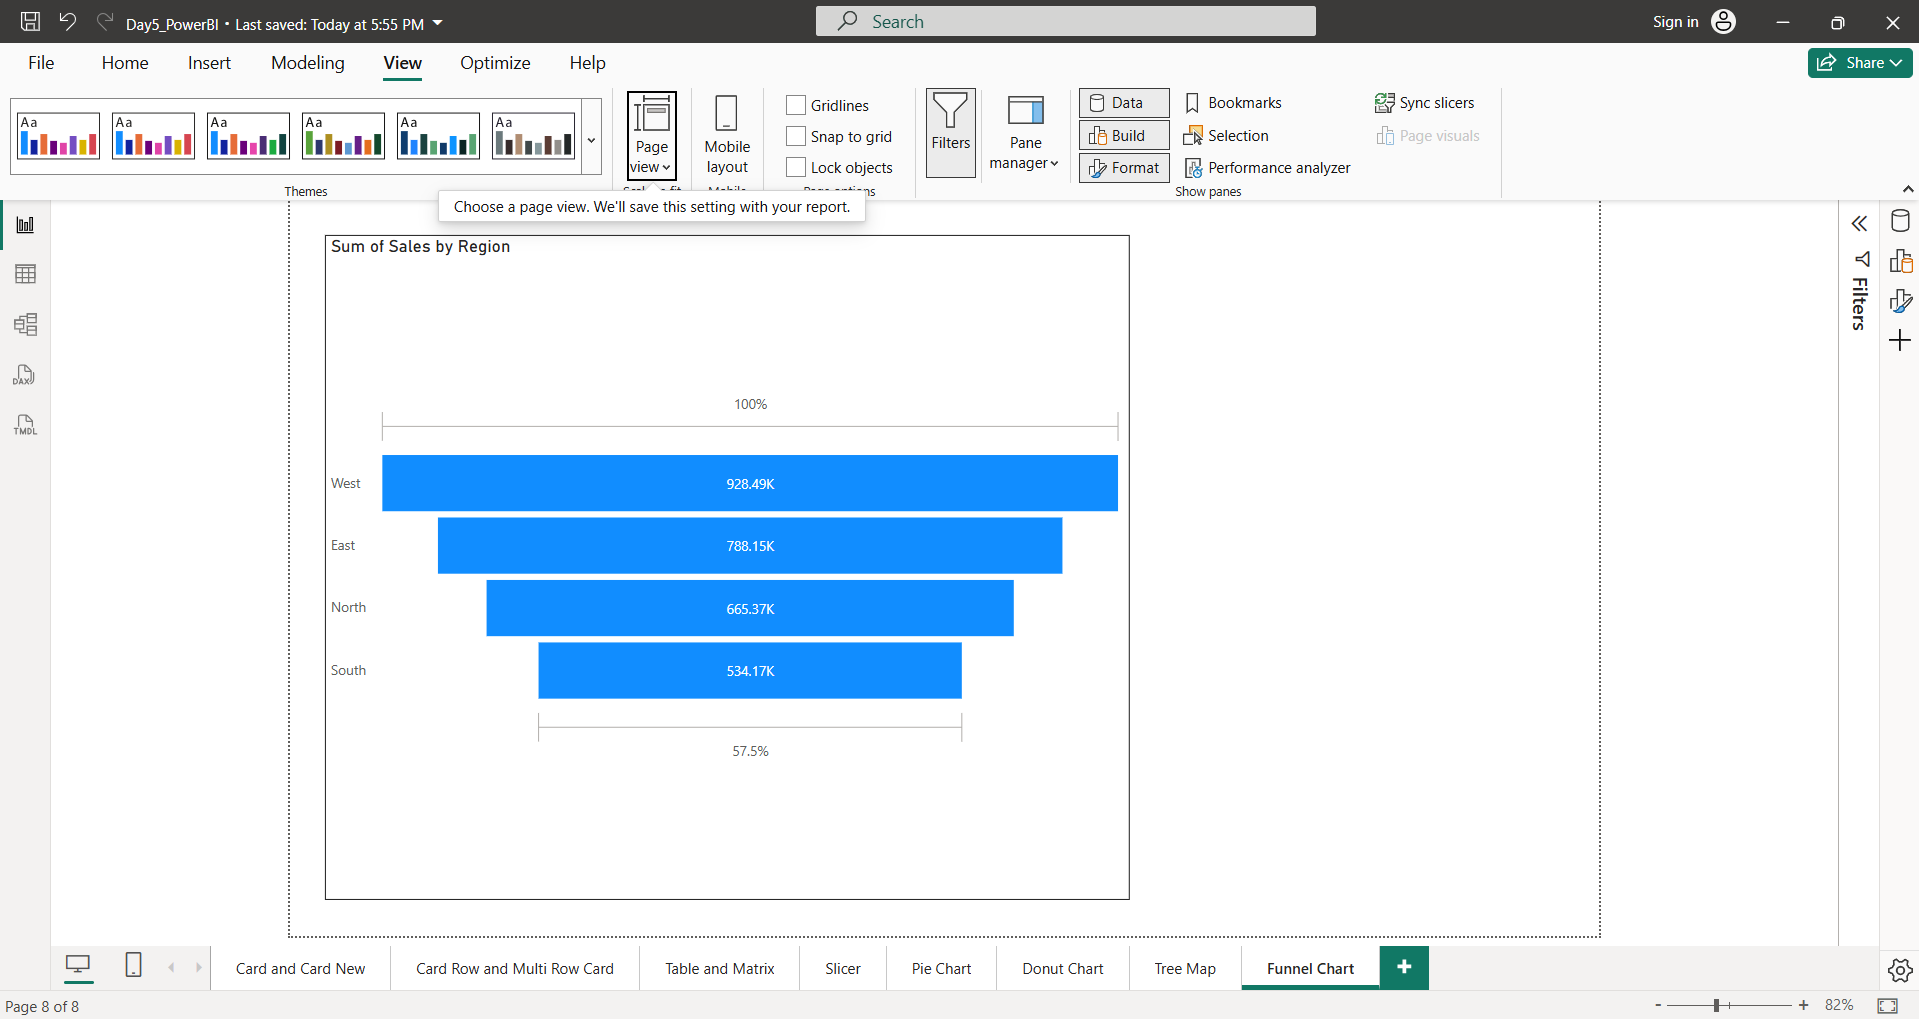

The dashboard page shown, as its layout file describes it:
{"tool":"powerbi","page":{"name":"Funnel Chart","canvas":[1280,720],"ordinal":7},"visuals":[{"type":"funnel","fields":{"Y":["Sum(India New data.Sales)"],"Category":["India New data.Region"]},"box":[34.2,34.2,787.2,650.3],"z":0}]}

Visuals, with their boxes on the page's 1280x720 design canvas (x1, y1, x2, y2). These are canvas units, not pixel positions in the 1919x1019 screenshot, which may show the page scaled, cropped or inside an application window:
funnel - Sum(India New data.Sales) x India New data.Region: box=[34, 34, 821, 684]
